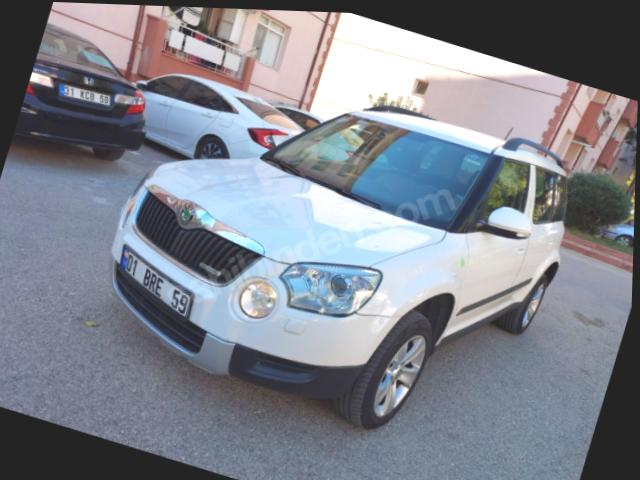plaka: (119, 248, 191, 316), (64, 85, 109, 105)
